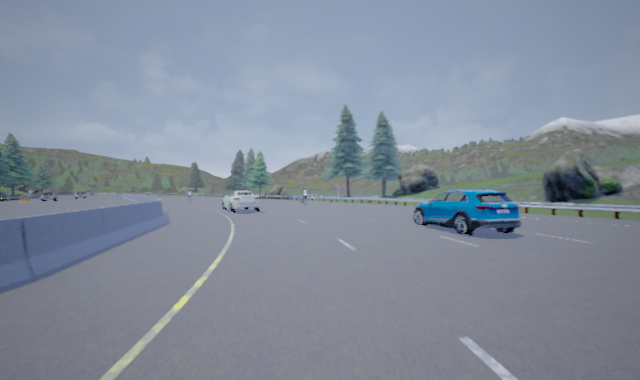bike: (300, 186, 308, 205)
vehicle: (411, 187, 522, 236), (220, 190, 262, 214), (41, 192, 56, 203)
